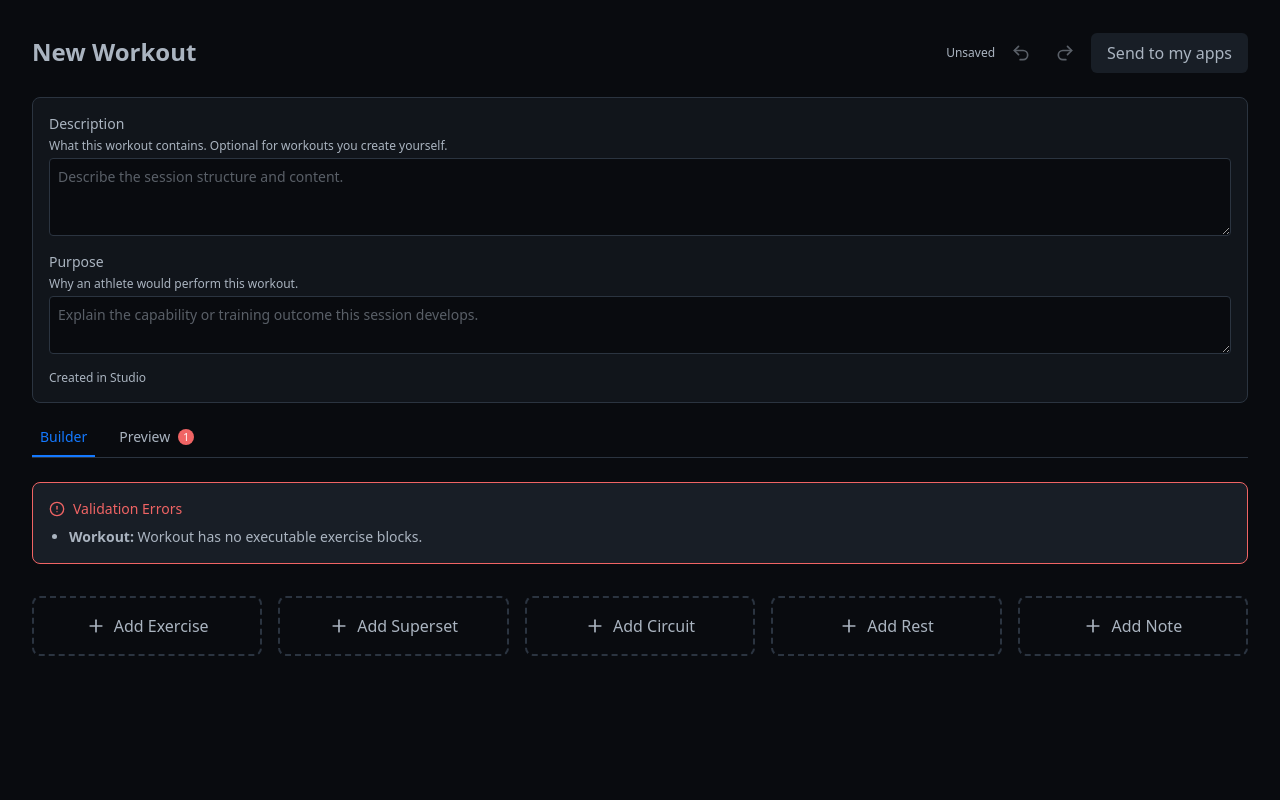
Test: WorkoutBuilder › can open exercise drawer
Click the button "Add Exercise": (147, 626) 32,596 -> 262,656
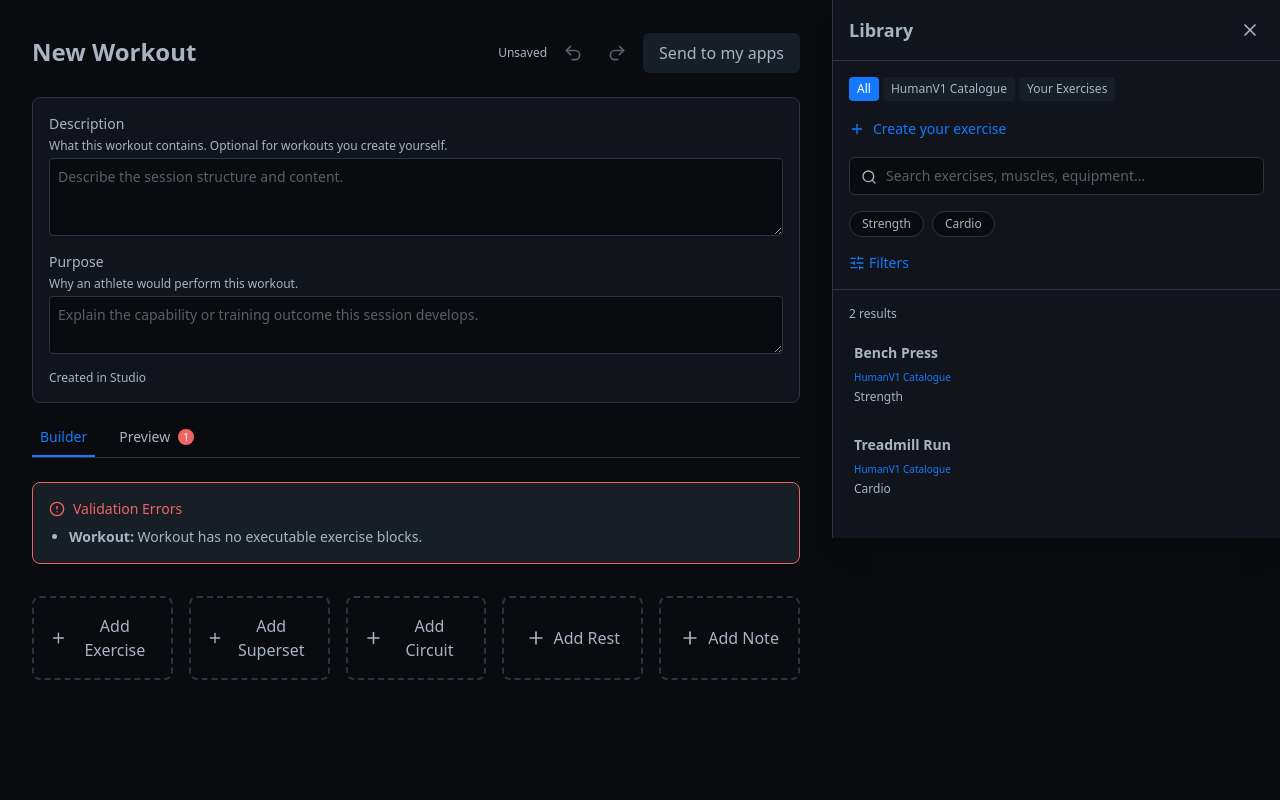
Result: the heading "Library" is shown at 849,16 -> 913,44
